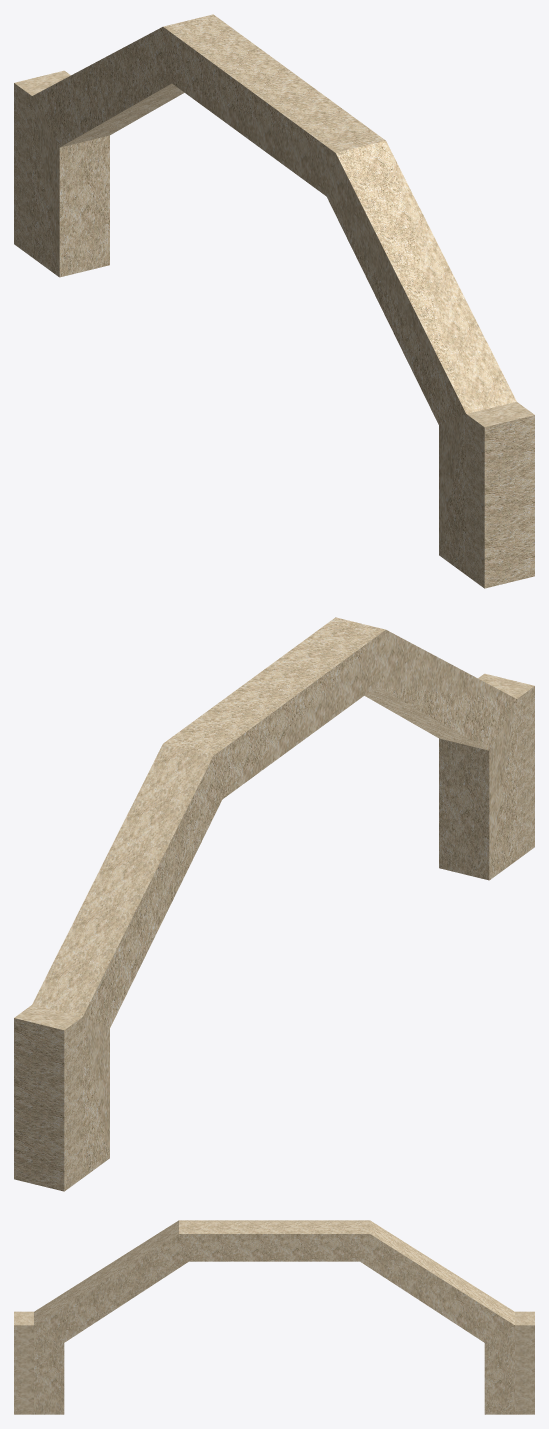
The model's file is thm_tato_imprv_wallgate_wide_s01_l3.fbx.
3 renders of one model, top to bottom at view 1: azimuth 30°, elevation 25°; view 2: azimuth 150°, elevation 25°; view 3: azimuth 270°, elevation 25°, orthographic. The views are drawn at different scales.
Parts seen in each view (by area): view 1: mesh_node; view 2: mesh_node; view 3: mesh_node.
Part boxes in pixels (<box>): mesh_node: <box>14,14,534,588</box>; mesh_node: <box>14,617,534,1191</box>; mesh_node: <box>14,1220,534,1414</box>.
Size of the model in its own units: 0.9899 by 6.13 by 16.
